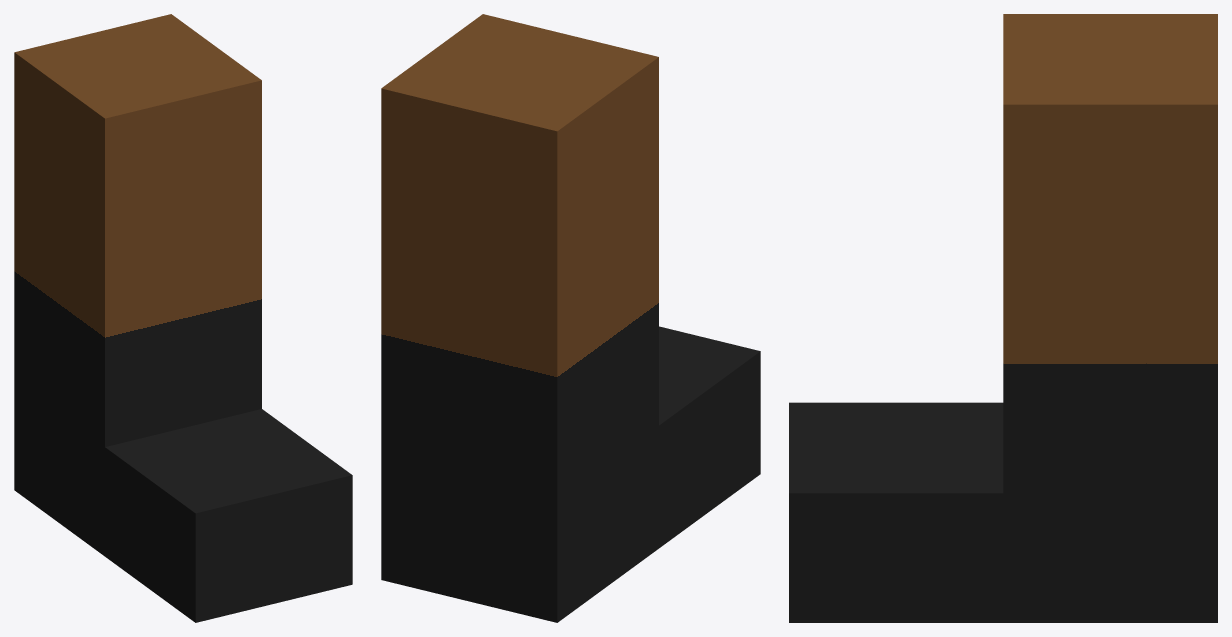
File: Character_Shin_L.fbx
3 views of the same model, side by side, from view 1: azimuth 30°, elevation 25°; view 2: azimuth 150°, elevation 25°; view 3: azimuth 270°, elevation 25° (orthographic). The views are drawn at different scales.
Bounding box in the file's own units: 3 × 8 × 6.
Materials: 1 (1 with a texture image).
